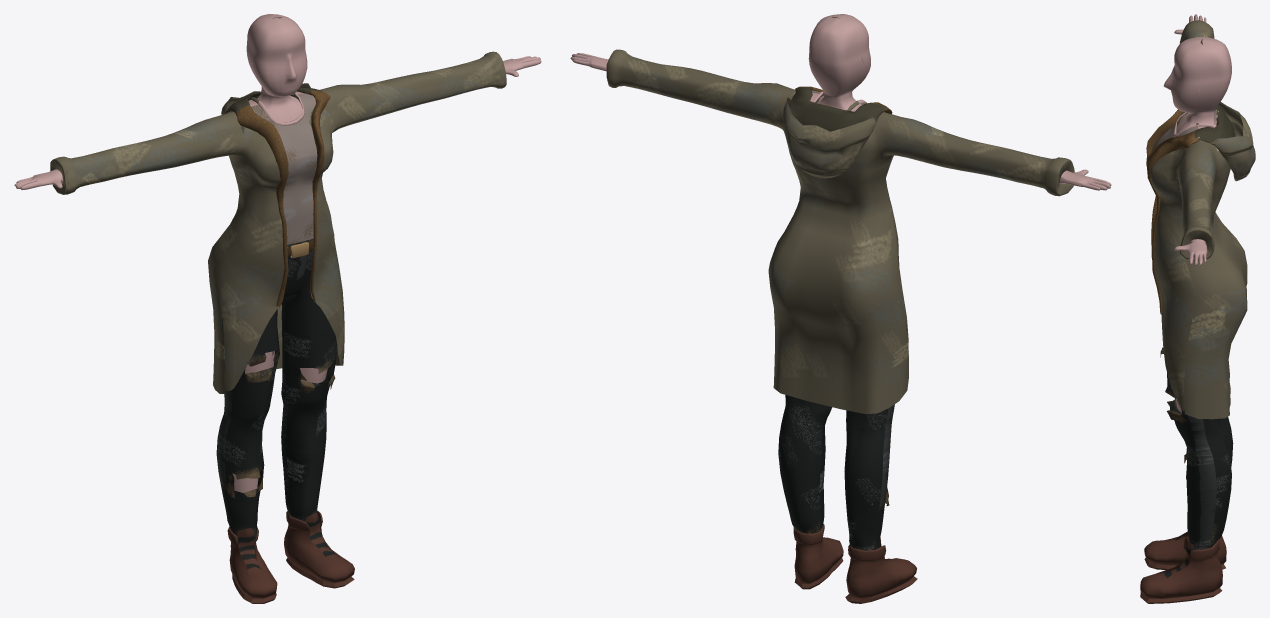
Rendered from Folk_Female_01.fbx.
3 renders of one model, left to right at view 1: azimuth 30°, elevation 25°; view 2: azimuth 150°, elevation 25°; view 3: azimuth 270°, elevation 25°, orthographic. The views are drawn at different scales.
Parts seen in each view (by area): view 1: folk_female_01; view 2: folk_female_01; view 3: folk_female_01.
Boxes of the visible parts, x1,y1,x2,y2 form: folk_female_01: (14, 14, 541, 603); folk_female_01: (570, 14, 1111, 603); folk_female_01: (1140, 14, 1255, 603).
Size of the model in its own units: 146 by 147 by 28.45.
